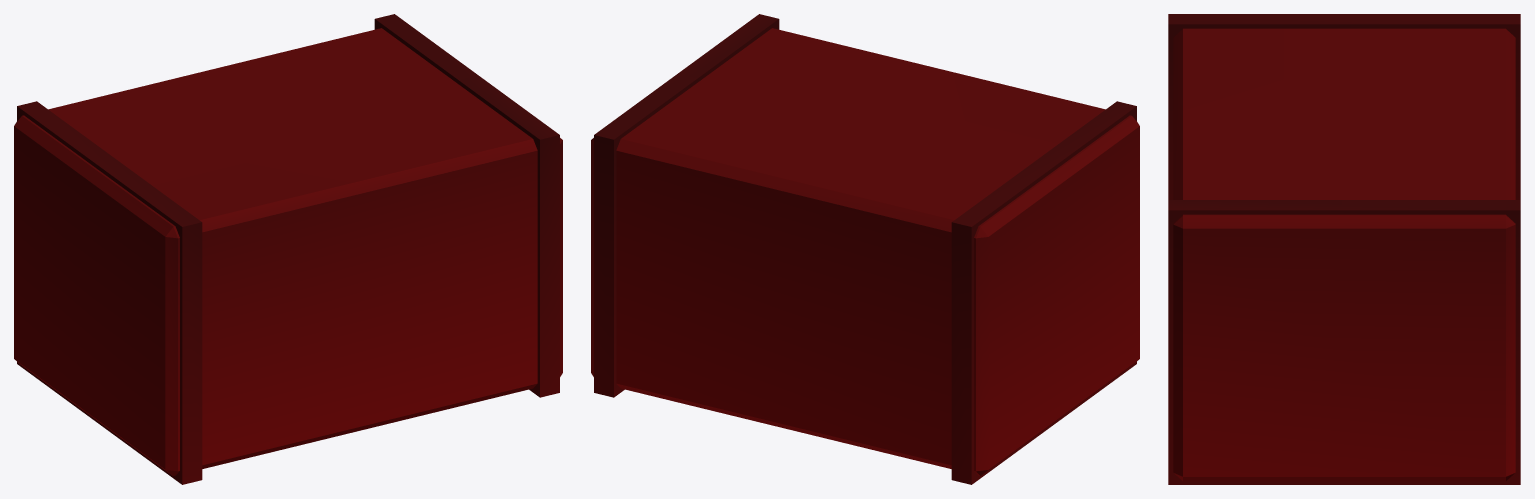
The model's file is supply_crate.glb.
3 views of the same model, side by side, from view 1: azimuth 30°, elevation 25°; view 2: azimuth 150°, elevation 25°; view 3: azimuth 270°, elevation 25° (orthographic). The views are drawn at different scales.
Visible parts, largest first — view 1: crate; view 2: crate; view 3: crate.
Boxes of the visible parts, x1,y1,x2,y2 form: crate: (14,14,562,484); crate: (591,14,1139,484); crate: (1168,14,1520,484).
Size of what is drawn, in the model's own units: 1 by 0.62 by 0.72.
